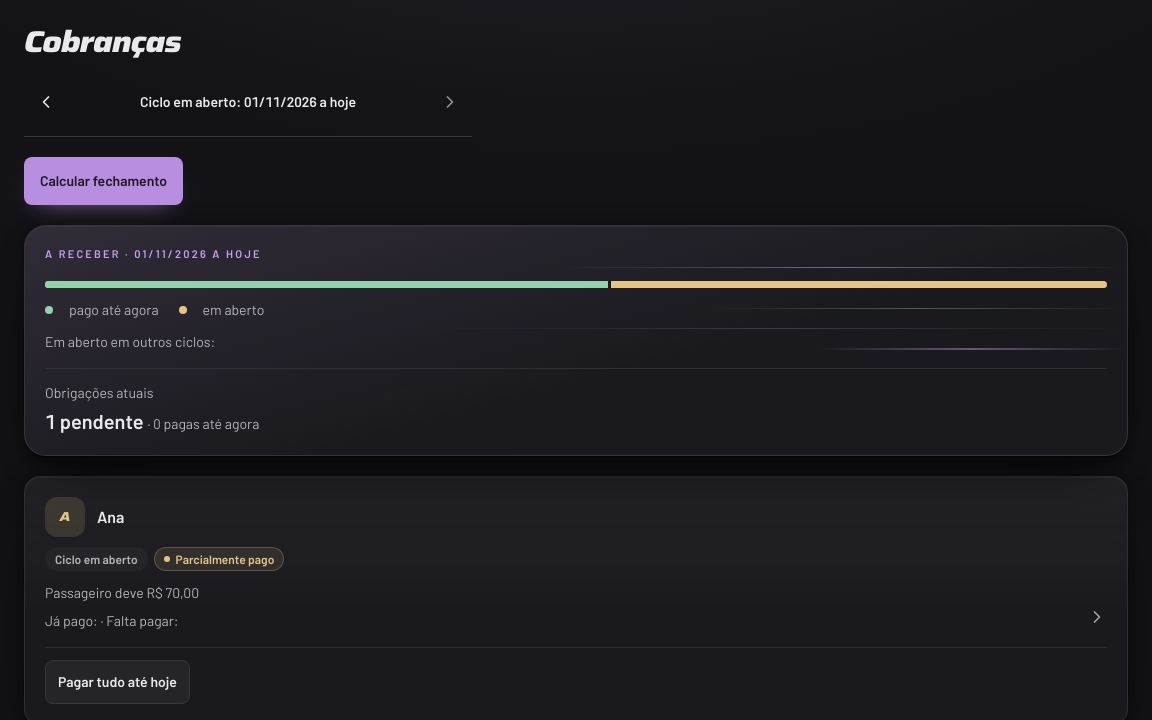
the open cycle shows once, as the open cycle › is not listed again among the closed cycles
This screenshot has width=1152, height=720.
What coordinates should you click on to do the following:
click the button named "Ciclo anterior"
I would click on:
 (46, 102)
Its box is left=24, top=80, right=68, bottom=124.
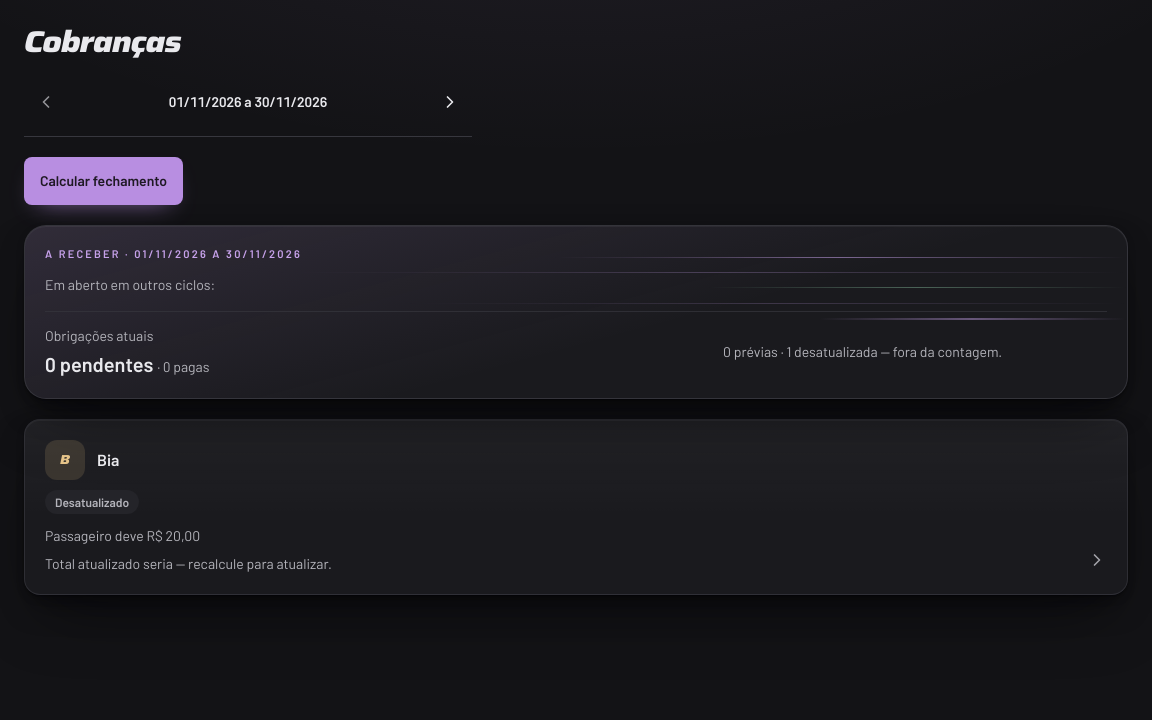
Check: the text "01/11/2026 a 30/11/2026" is shown, box left=169, top=93, right=327, bottom=110
Check: the text "Bia" is shown, box left=97, top=450, right=119, bottom=468
Check: the button "Ana" is gone
